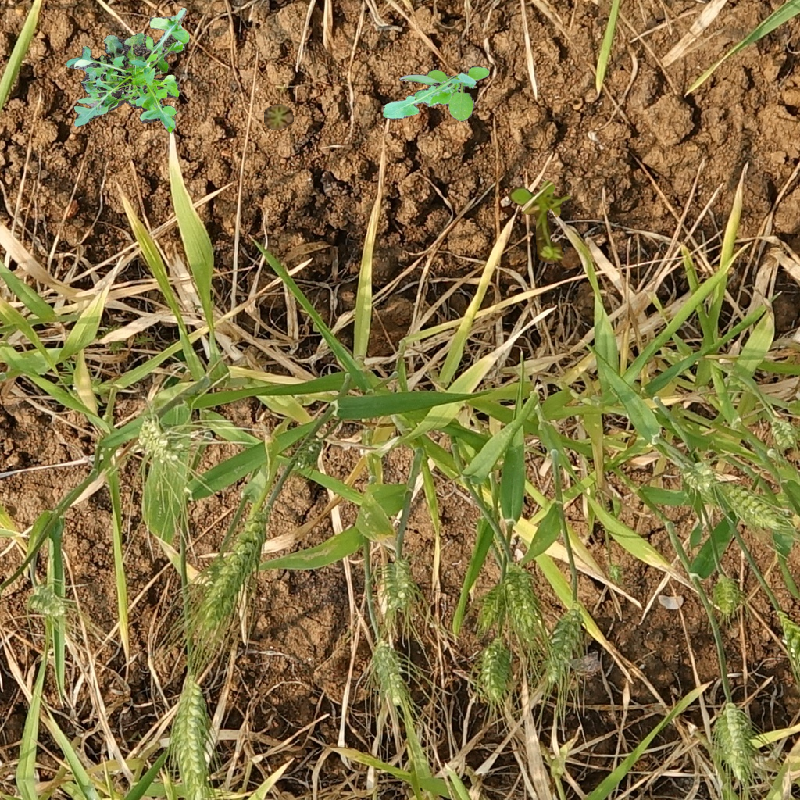spikelet: (197, 502, 282, 635), (172, 673, 210, 779), (718, 480, 786, 531), (714, 698, 754, 781), (543, 604, 584, 683), (502, 561, 539, 633), (371, 639, 410, 706), (479, 638, 513, 702), (378, 556, 414, 611), (137, 419, 181, 464), (473, 579, 508, 631), (25, 584, 68, 619), (778, 611, 799, 681), (710, 572, 741, 618), (678, 458, 717, 494), (767, 417, 799, 449)
weed: (65, 8, 190, 134), (383, 66, 490, 122), (508, 180, 571, 264), (264, 104, 294, 130)
